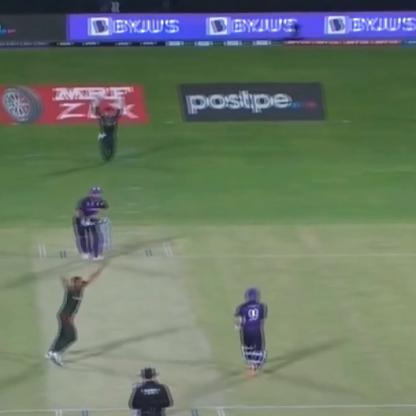pitch: (33, 242, 223, 415)
